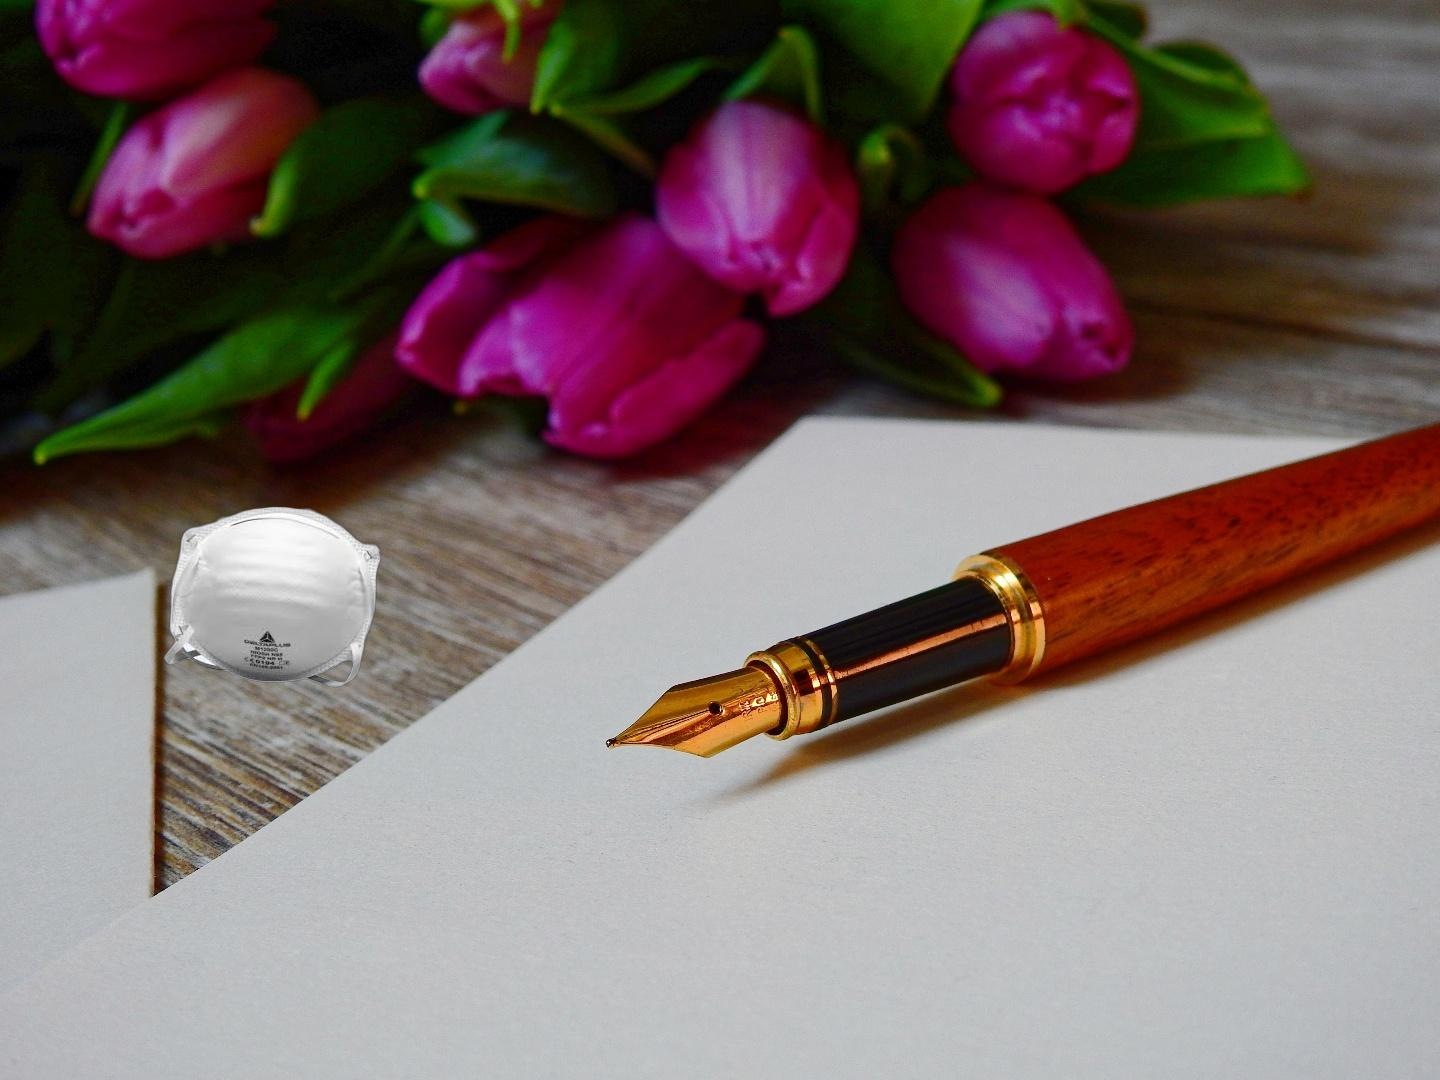trash: (161, 504, 386, 690)
